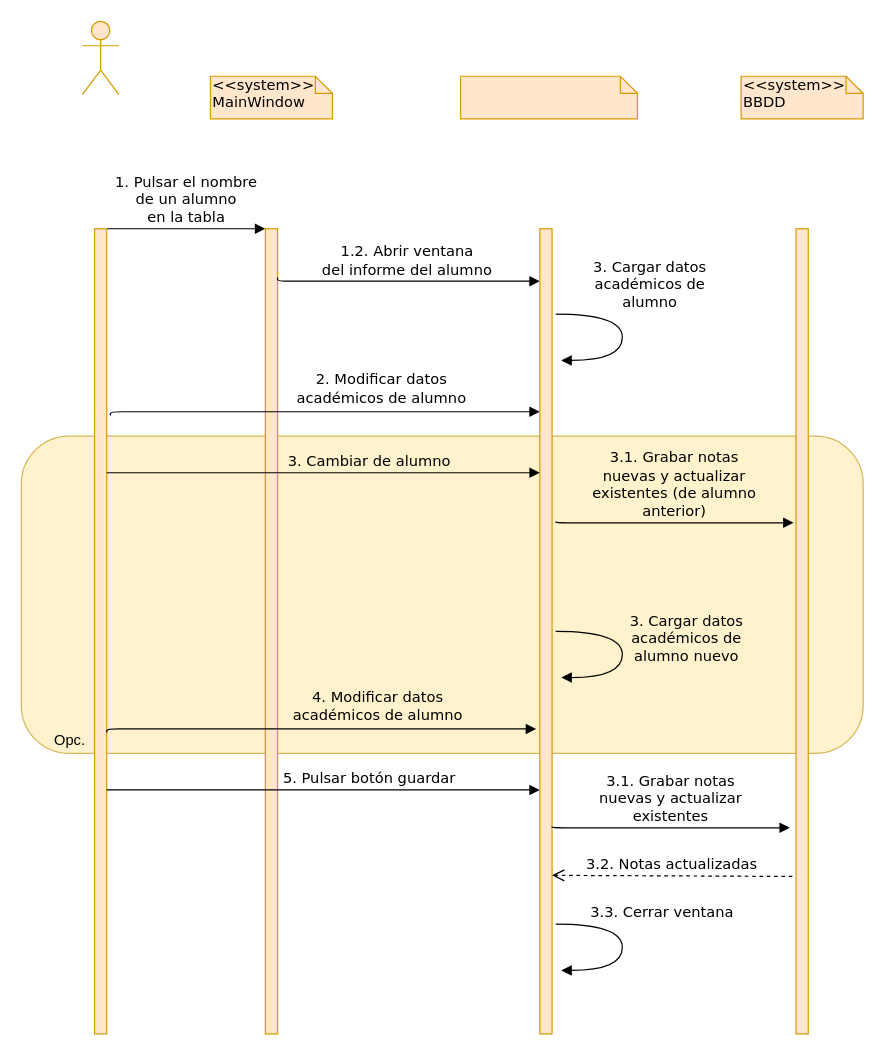
Some shapes in this 885 by 1055 pixel diagram are drawn without their labels. Each missing label, with the centre of its shape:
"<<system>> InformeAlumnoWindow" goes at point 548,97.
"<<user>> Maestro" goes at point 100,57.
